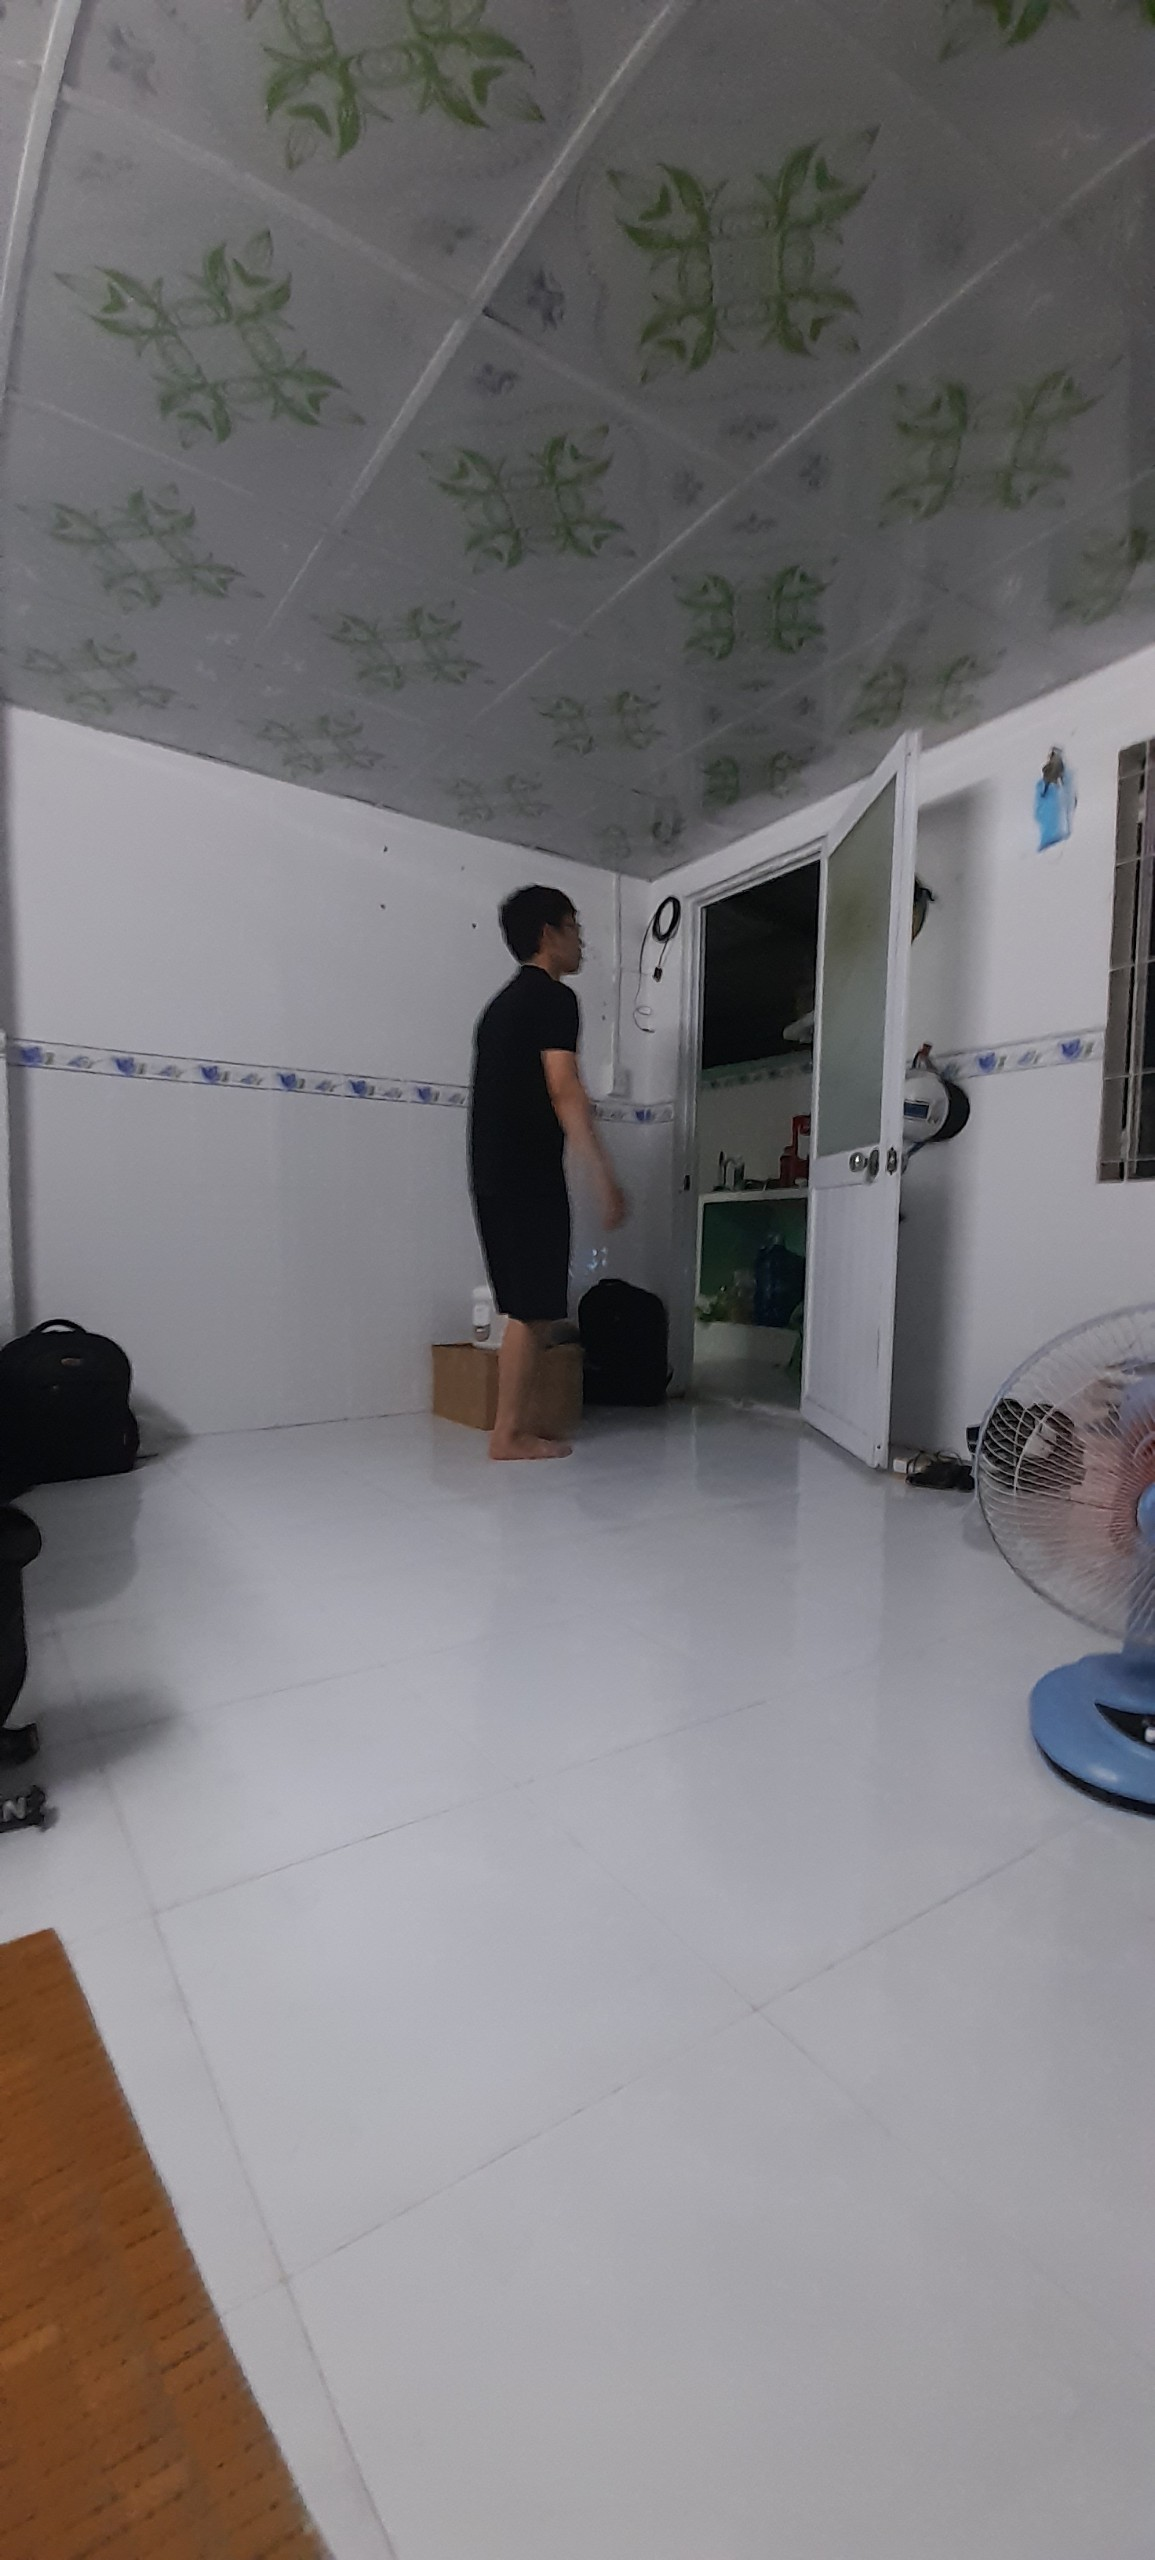person: (476, 879, 606, 1463)
